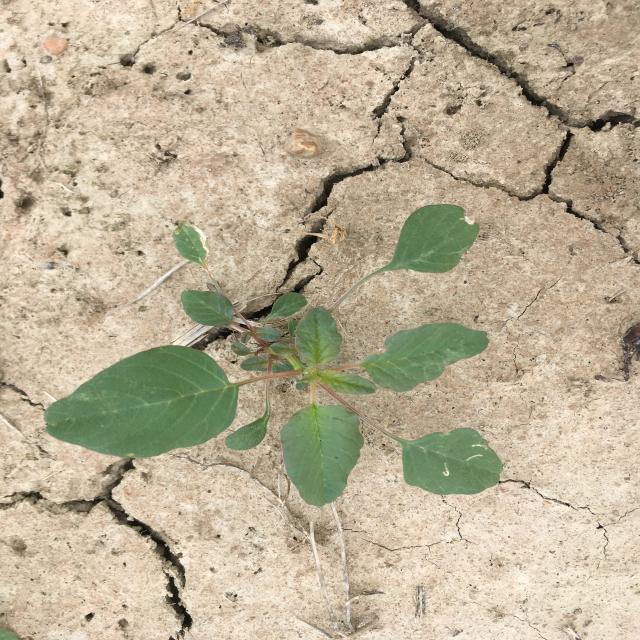PalmerAmaranth: (42, 203, 503, 508)
